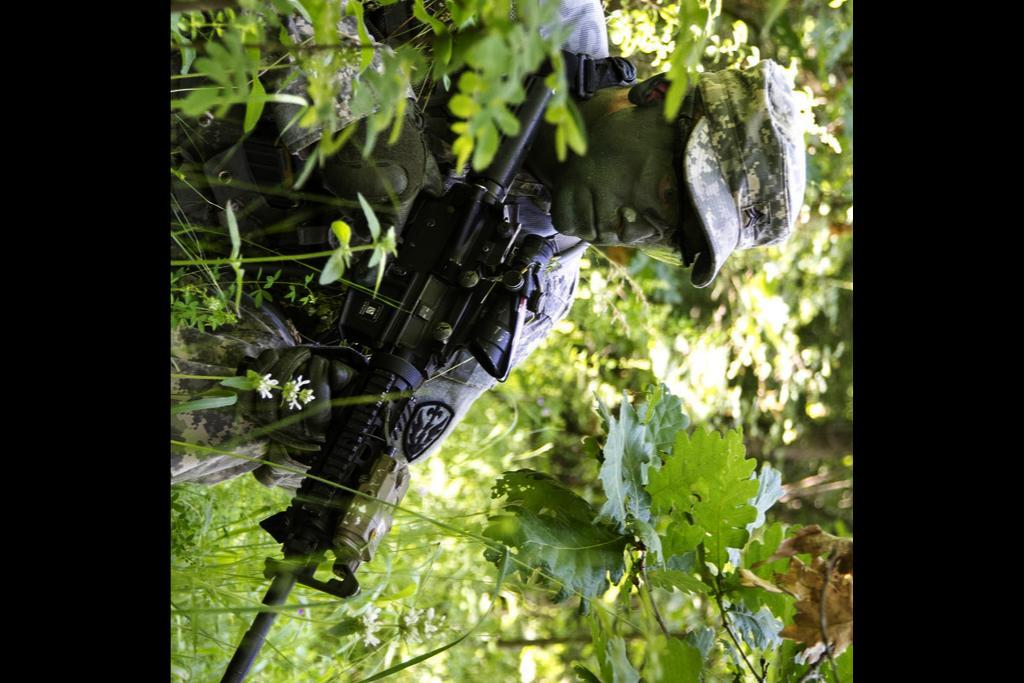gun: (189, 60, 585, 683)
